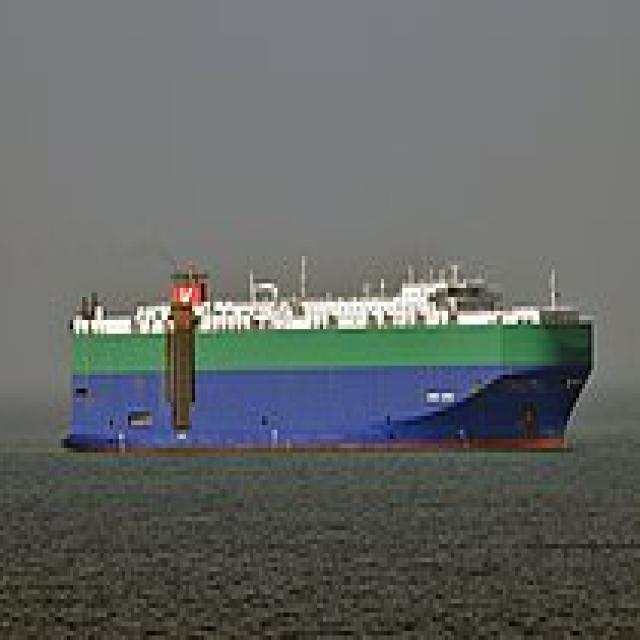Carrier: (55, 242, 597, 457)
